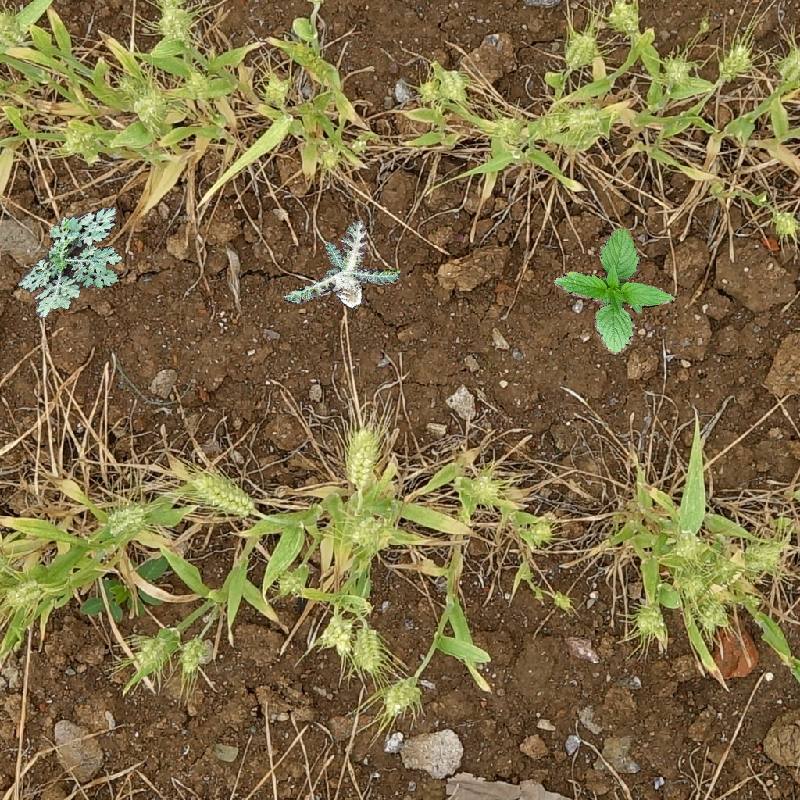spikelet: (187, 468, 260, 519), (340, 422, 383, 491), (133, 623, 181, 675), (347, 510, 395, 554), (101, 497, 150, 539), (693, 581, 732, 633), (380, 672, 423, 717), (714, 39, 755, 85), (351, 620, 385, 675), (318, 610, 356, 657), (460, 468, 504, 508), (59, 124, 103, 164), (740, 536, 786, 574), (631, 593, 668, 640), (665, 524, 709, 562), (128, 87, 169, 127), (156, 1, 195, 43), (562, 28, 599, 72), (3, 575, 48, 611), (488, 113, 531, 148), (178, 634, 214, 674), (707, 550, 745, 586), (563, 103, 605, 135), (1, 5, 30, 51), (671, 564, 707, 598), (659, 52, 693, 87), (437, 65, 469, 102), (273, 565, 307, 599), (606, 1, 641, 34), (767, 205, 800, 239), (775, 43, 800, 83), (261, 73, 291, 105), (315, 141, 341, 171)
weed: (557, 226, 680, 353), (281, 210, 410, 322), (1, 207, 122, 313)
